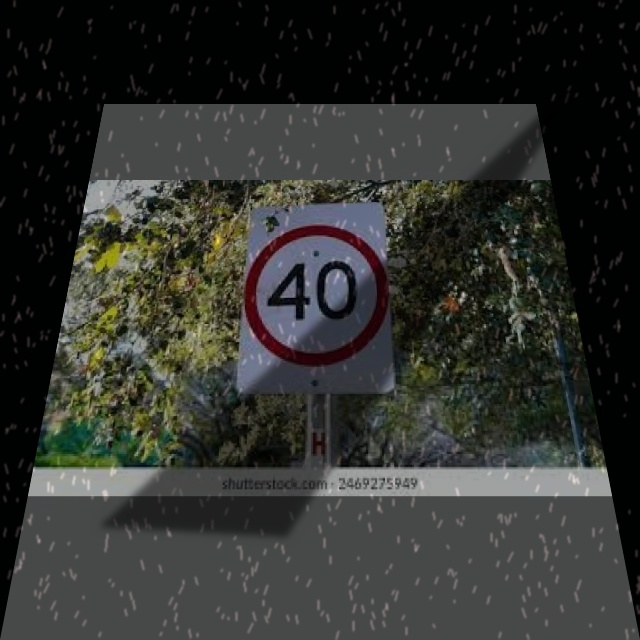Speed_Limit_40: (234, 225, 397, 369)
